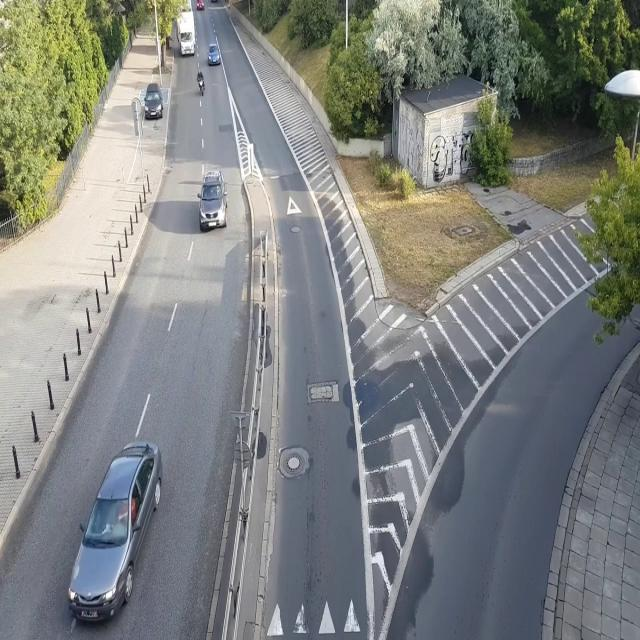car: (66, 440, 163, 628), (196, 169, 228, 232), (143, 82, 164, 119), (206, 44, 221, 68), (196, 0, 204, 10)
motorcycle: (196, 70, 206, 96)
truck: (176, 10, 197, 58)
